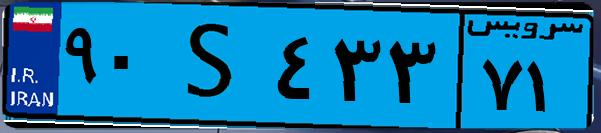0: (110, 28, 158, 98)
1: (525, 38, 570, 115)
3: (385, 28, 445, 110), (330, 28, 385, 110)
4: (270, 28, 330, 110)
7: (475, 38, 525, 113)
9: (57, 26, 110, 100)
S: (158, 12, 270, 120)
